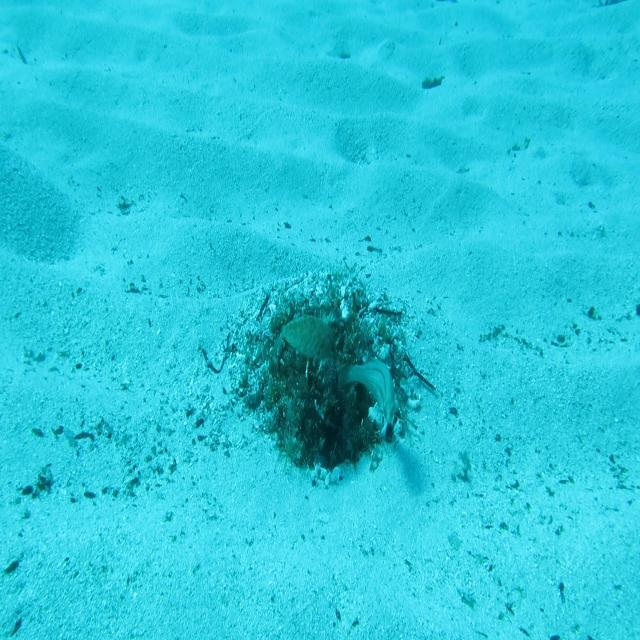ROLL: (268, 306, 339, 366)
female: (337, 356, 399, 433)
nest: (215, 253, 430, 508)
vegetation: (418, 76, 444, 90)
